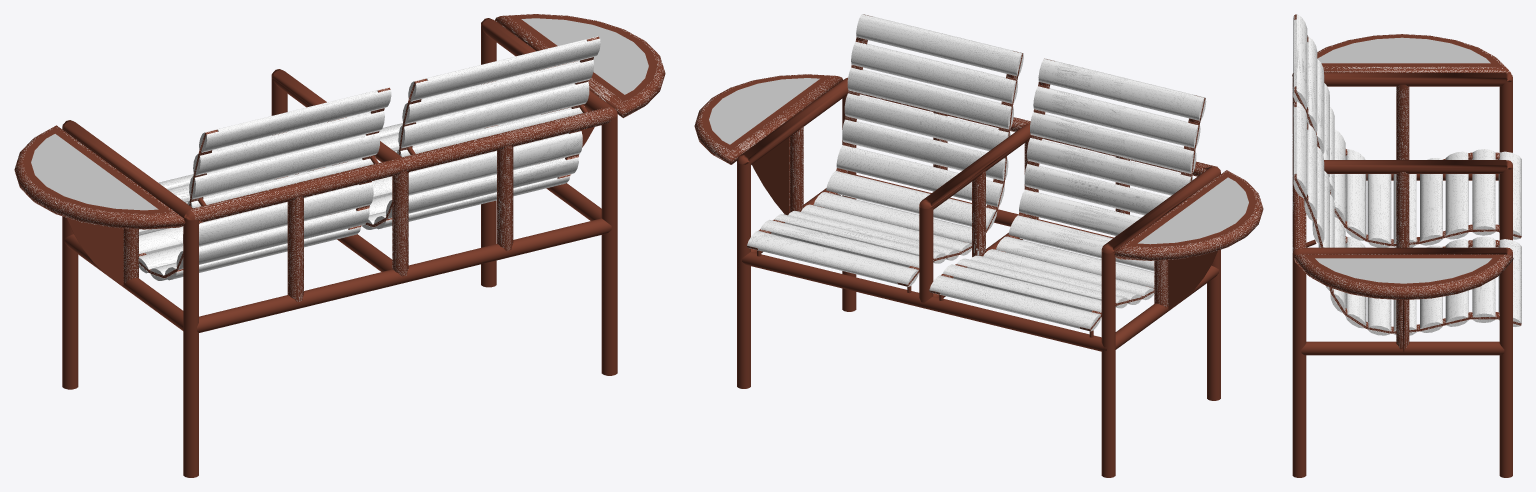
3 views of the same model, side by side, from view 1: azimuth 30°, elevation 25°; view 2: azimuth 150°, elevation 25°; view 3: azimuth 270°, elevation 25° (orthographic). The views are drawn at different scales.
Visible parts, largest first — view 1: mesh7_mesh7-geometry, mesh73_mesh73-geometry, mesh1_mesh1-geometry, mesh3_mesh3-geometry, mesh74_mesh74-geometry, mesh4_mesh4-geometry, mesh72_mesh72-geometry, mesh76_mesh76-geometry, mesh8_mesh8-geometry, mesh2_mesh2-geometry; view 2: mesh7_mesh7-geometry, mesh73_mesh73-geometry, mesh1_mesh1-geometry, mesh3_mesh3-geometry, mesh72_mesh72-geometry, mesh4_mesh4-geometry, mesh8_mesh8-geometry, mesh2_mesh2-geometry, mesh75_mesh75-geometry, mesh76_mesh76-geometry, mesh74_mesh74-geometry; view 3: mesh7_mesh7-geometry, mesh73_mesh73-geometry, mesh1_mesh1-geometry, mesh72_mesh72-geometry, mesh3_mesh3-geometry, mesh4_mesh4-geometry, mesh8_mesh8-geometry, mesh2_mesh2-geometry, mesh74_mesh74-geometry.
Part boxes in pixels (<box>): mesh7_mesh7-geometry: <box>139,36,600,280</box>; mesh73_mesh73-geometry: <box>14,14,665,229</box>; mesh1_mesh1-geometry: <box>62,28,617,477</box>; mesh3_mesh3-geometry: <box>64,183,611,332</box>; mesh74_mesh74-geometry: <box>191,107,613,223</box>; mesh4_mesh4-geometry: <box>123,110,556,301</box>; mesh72_mesh72-geometry: <box>62,69,404,220</box>; mesh76_mesh76-geometry: <box>66,217,123,285</box>; mesh8_mesh8-geometry: <box>139,36,599,278</box>; mesh2_mesh2-geometry: <box>481,18,617,117</box>; mesh7_mesh7-geometry: <box>747,14,1206,331</box>; mesh73_mesh73-geometry: <box>694,74,1263,260</box>; mesh1_mesh1-geometry: <box>737,95,1220,477</box>; mesh3_mesh3-geometry: <box>742,174,1218,351</box>; mesh72_mesh72-geometry: <box>919,123,1220,253</box>; mesh4_mesh4-geometry: <box>789,111,1168,307</box>; mesh8_mesh8-geometry: <box>747,14,1205,330</box>; mesh2_mesh2-geometry: <box>737,77,848,164</box>; mesh75_mesh75-geometry: <box>752,137,789,215</box>; mesh76_mesh76-geometry: <box>1168,250,1217,309</box>; mesh74_mesh74-geometry: <box>860,93,1215,176</box>; mesh7_mesh7-geometry: <box>1293,14,1521,335</box>; mesh73_mesh73-geometry: <box>1292,34,1513,299</box>; mesh1_mesh1-geometry: <box>1292,81,1512,477</box>; mesh72_mesh72-geometry: <box>1292,72,1512,173</box>; mesh3_mesh3-geometry: <box>1301,174,1504,355</box>; mesh4_mesh4-geometry: <box>1396,84,1409,349</box>; mesh8_mesh8-geometry: <box>1294,14,1521,333</box>; mesh2_mesh2-geometry: <box>1292,247,1512,256</box>; mesh74_mesh74-geometry: <box>1292,76,1306,252</box>.
Bounding box in the file's own units: 0.8394 × 0.4422 × 0.316.
